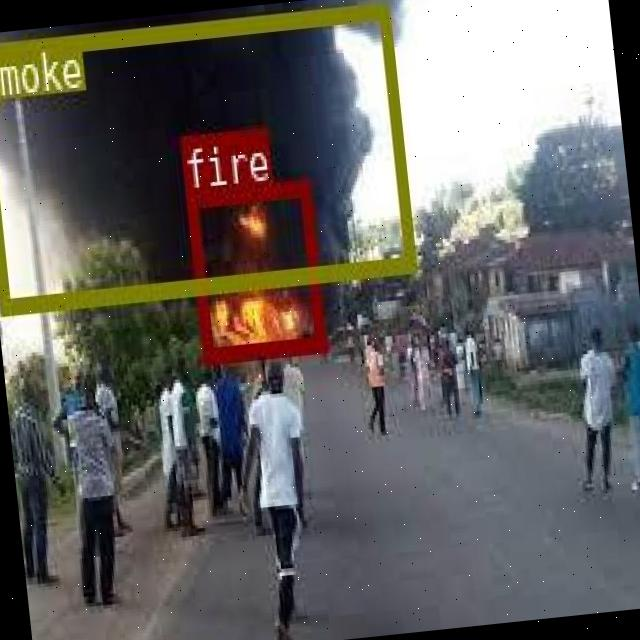fire: (183, 177, 324, 360)
smoke: (0, 1, 414, 311)
